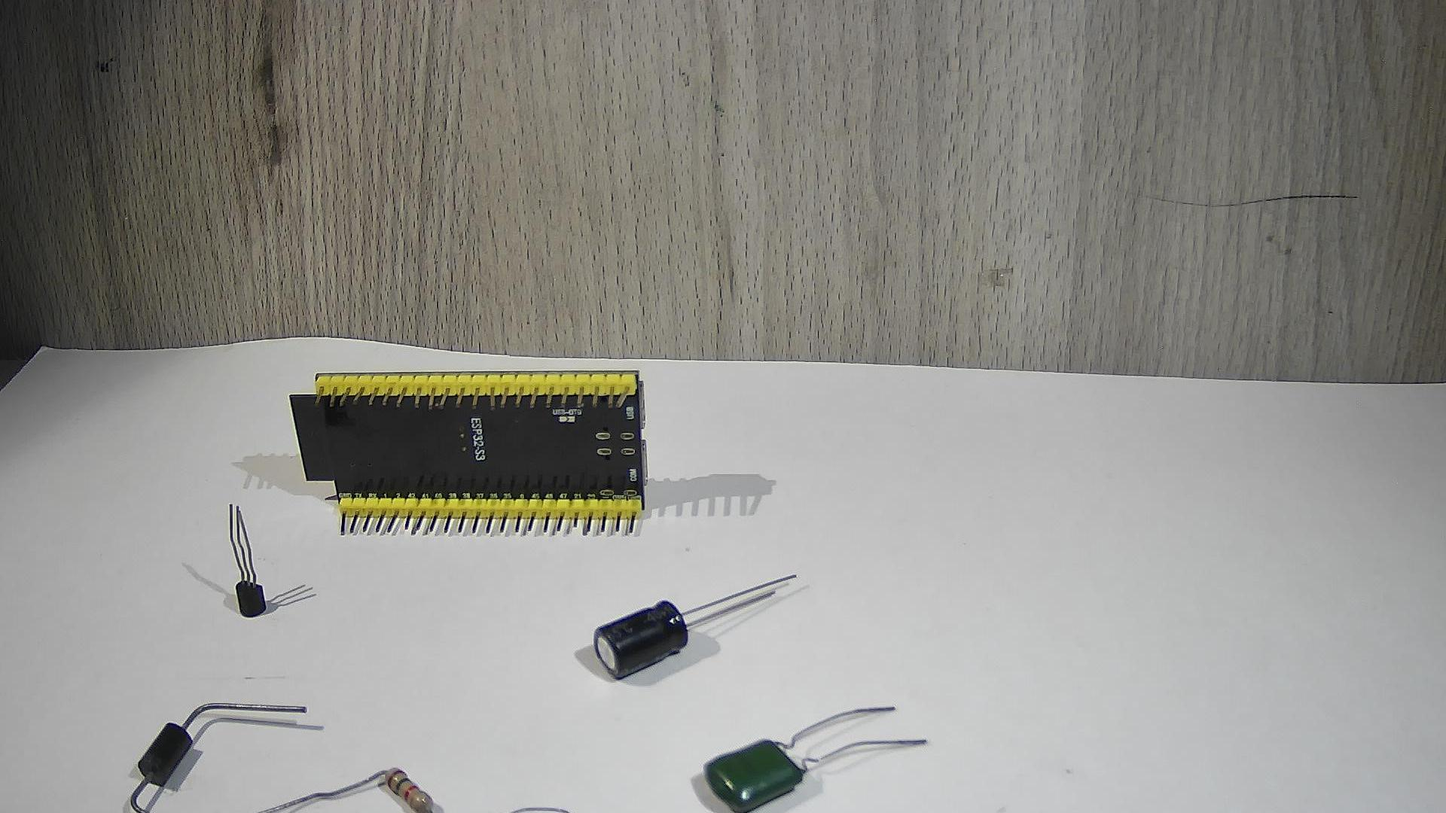Capacitor: (542, 570, 809, 695)
Diodo: (115, 694, 239, 813)
ESP32: (290, 349, 687, 551)
Resistencia: (323, 756, 462, 813)
Transistor: (186, 467, 283, 637)
capacitor ceramico: (685, 700, 944, 813)
